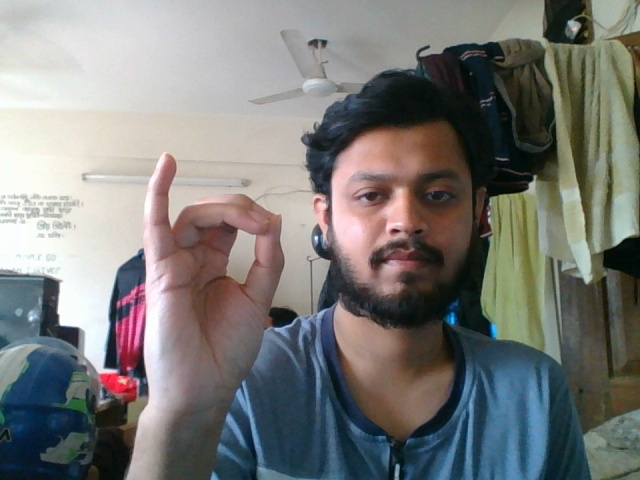ou: (138, 150, 292, 465)
